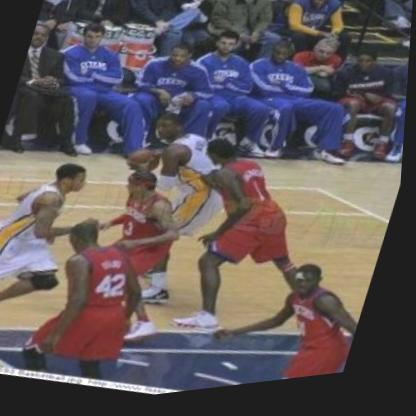basketball: (125, 140, 165, 182)
